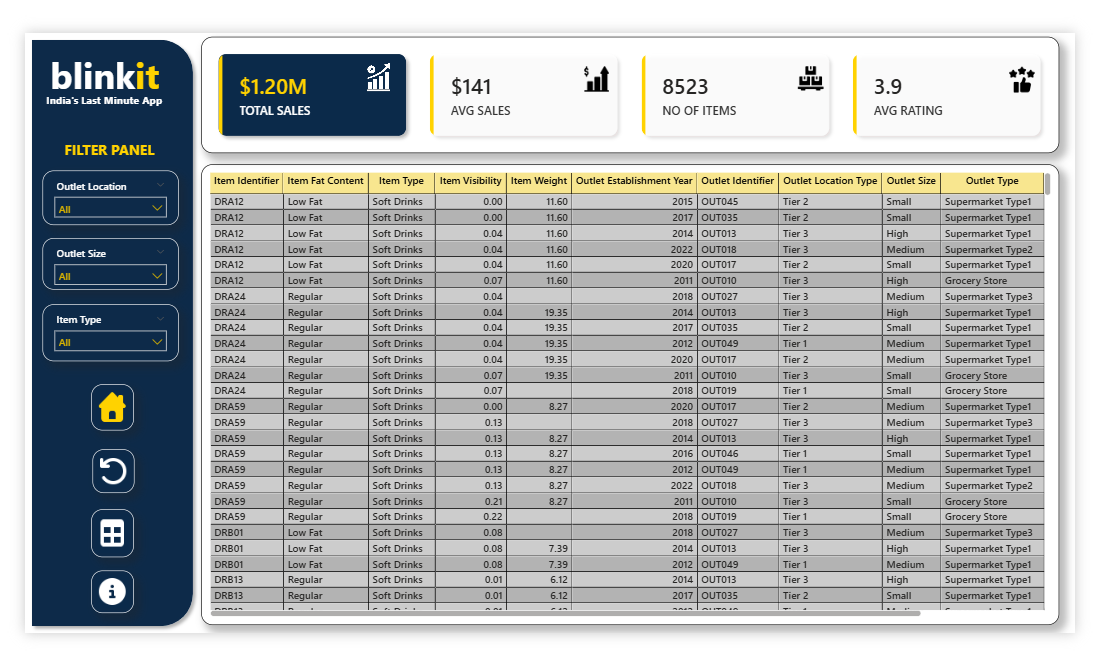

The dashboard page shown, as its layout file describes it:
{"tool":"powerbi","page":{"name":"TABLE","canvas":[1400,800],"ordinal":2},"visuals":[{"type":"shape","box":[0,0,232.9,800],"z":0},{"type":"textbox","box":[4.3,18.6,202.9,75.7],"z":1000},{"type":"textbox","box":[17.1,75.7,178.6,28.6],"z":2000},{"type":"slicer","fields":{"Values":["BlinkIT Grocery Data.Outlet Location Type"]},"box":[22.9,183.9,181.4,72.9],"z":3000},{"type":"slicer","fields":{"Values":["BlinkIT Grocery Data.Outlet Size"]},"box":[22.9,273.9,181.4,68.6],"z":4000},{"type":"slicer","fields":{"Values":["BlinkIT Grocery Data.Item Type"]},"box":[22.9,361,181.4,75.7],"z":5000},{"type":"textbox","box":[22.9,138.1,178.6,35.7],"z":6000},{"type":"actionButton","box":[88.6,468.6,57.1,61.4],"z":7000},{"type":"actionButton","box":[90,554.3,55.7,58.6],"z":8000},{"type":"actionButton","box":[88.6,634.3,57.1,64.3],"z":9000},{"type":"actionButton","box":[88.6,717.1,57.1,57.1],"z":10000},{"type":"cardVisual","fields":{"Data":["BlinkIT Grocery Data.Total Sales","BlinkIT Grocery Data.Avg Sales","BlinkIT Grocery Data.No of Items","BlinkIT Grocery Data.Avg Rating"]},"box":[235.7,5.7,1144,155],"z":11000},{"type":"tableEx","fields":{"Values":["BlinkIT Grocery Data.Item Identifier","BlinkIT Grocery Data.Item Fat Content","BlinkIT Grocery Data.Item Type","BlinkIT Grocery Data.Item Visibility","BlinkIT Grocery Data.Item Weight","BlinkIT Grocery Data.Outlet Establishment Year","BlinkIT Grocery Data.Outlet Identifier","BlinkIT Grocery Data.Outlet Location Type","BlinkIT Grocery Data.Outlet Size","BlinkIT Grocery Data.Outlet Type","BlinkIT Grocery Data.Rating","BlinkIT Grocery Data.Sales"]},"box":[235.7,174.3,1144.3,614.3],"z":12000},{"type":"image","box":[735.7,43.2,54.3,35.7],"z":13000},{"type":"image","box":[1020,43.2,55.7,34.3],"z":14000},{"type":"image","box":[1301.4,44.3,55.7,34.3],"z":15000},{"type":"image","box":[442.9,40,58.6,38.6],"z":16000}]}

Visuals, with their boxes on the page's 1400x800 design canvas (x1, y1, x2, y2). These are canvas units, not pixel positions in the 1108x665 screenshot, which may show the page scaled, cropped or inside an application window:
shape: locate(0, 0, 233, 800)
textbox: locate(4, 19, 207, 94)
textbox: locate(17, 76, 196, 104)
slicer - BlinkIT Grocery Data.Outlet Location Type: locate(23, 184, 204, 257)
slicer - BlinkIT Grocery Data.Outlet Size: locate(23, 274, 204, 342)
slicer - BlinkIT Grocery Data.Item Type: locate(23, 361, 204, 437)
textbox: locate(23, 138, 202, 174)
actionButton: locate(89, 469, 146, 530)
actionButton: locate(90, 554, 146, 613)
actionButton: locate(89, 634, 146, 699)
actionButton: locate(89, 717, 146, 774)
cardVisual - BlinkIT Grocery Data.Total Sales x BlinkIT Grocery Data.Avg Sales: locate(236, 6, 1380, 161)
tableEx - BlinkIT Grocery Data.Item Identifier x BlinkIT Grocery Data.Item Fat Content: locate(236, 174, 1380, 789)
image: locate(736, 43, 790, 79)
image: locate(1020, 43, 1076, 78)
image: locate(1301, 44, 1357, 79)
image: locate(443, 40, 502, 79)
